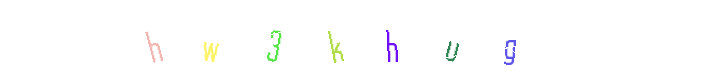3: (267, 0, 347, 80)
G: (412, 0, 492, 80)
H: (174, 0, 254, 80), (312, 0, 392, 80)
K: (289, 0, 369, 80)
U: (410, 0, 490, 80)
W: (240, 0, 320, 80)
